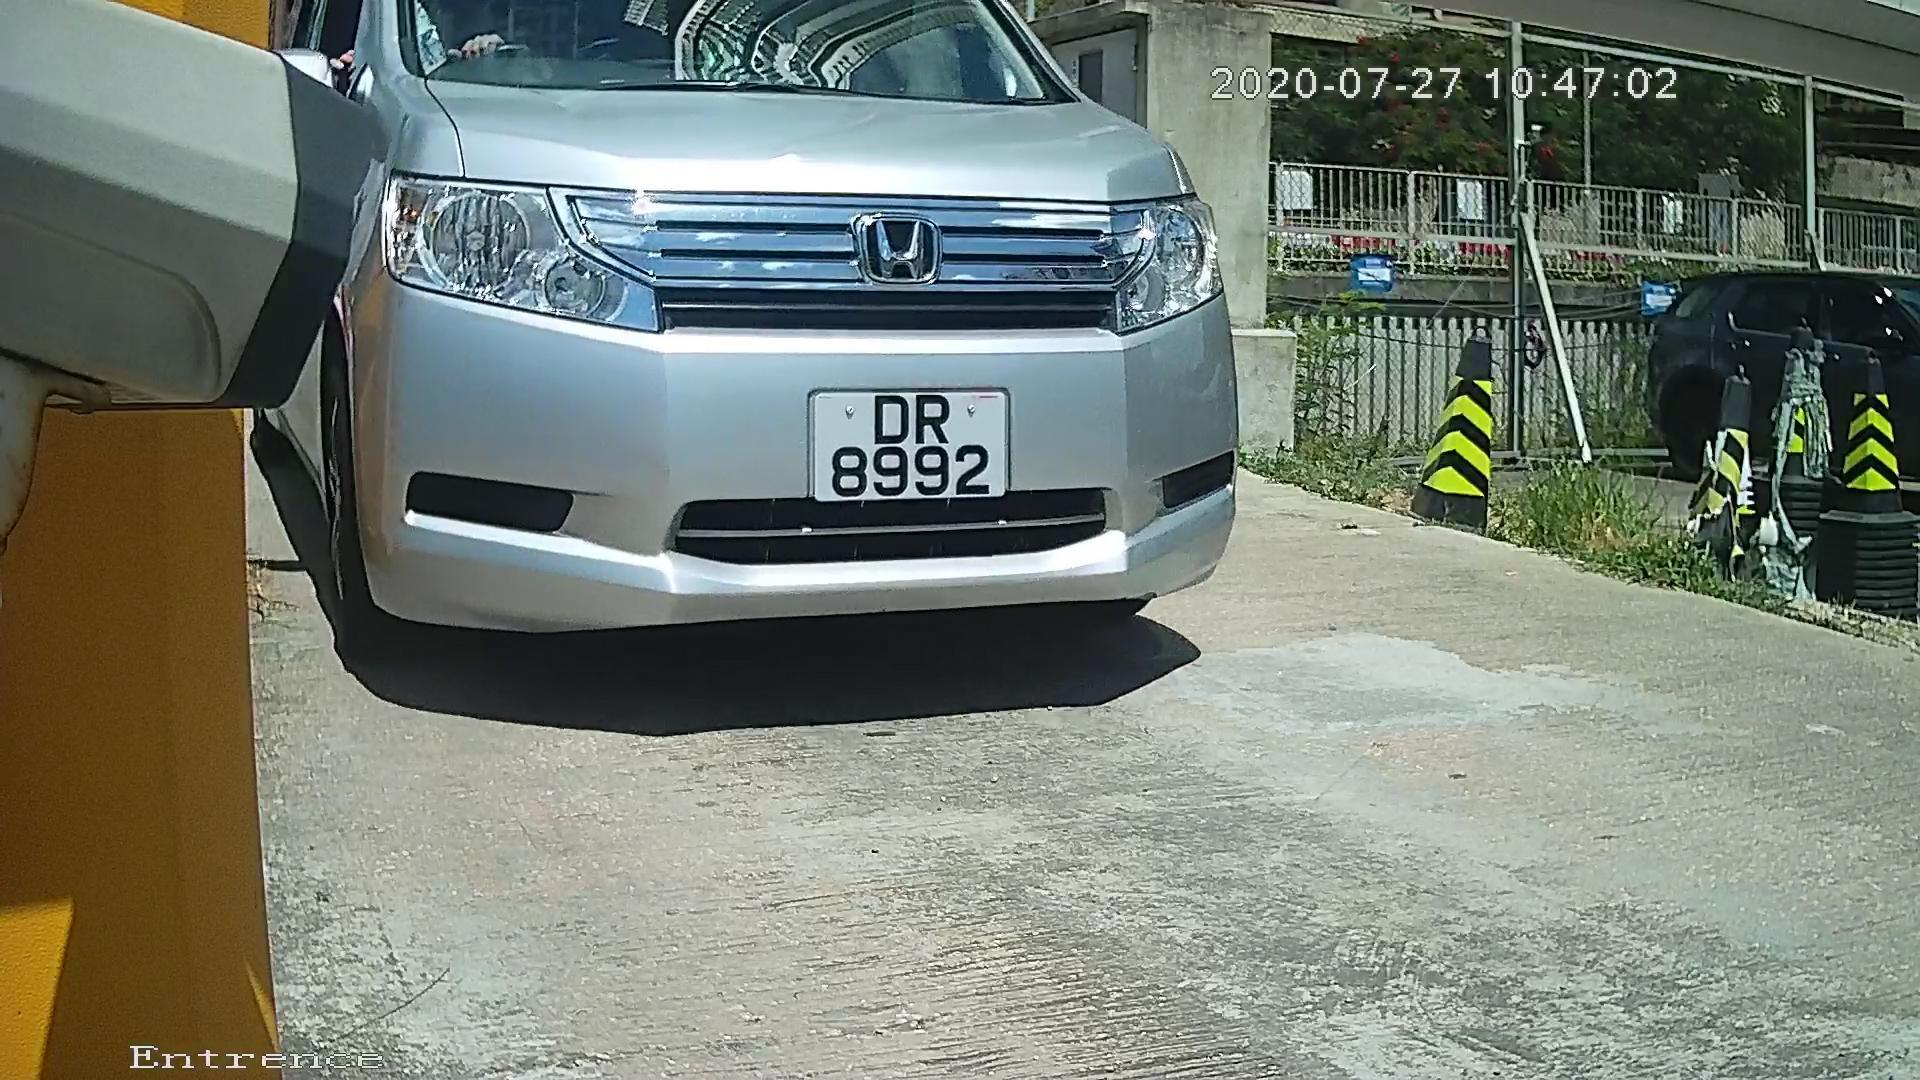Car: (61, 20, 1338, 738)
License Plate: (781, 377, 1038, 516)
